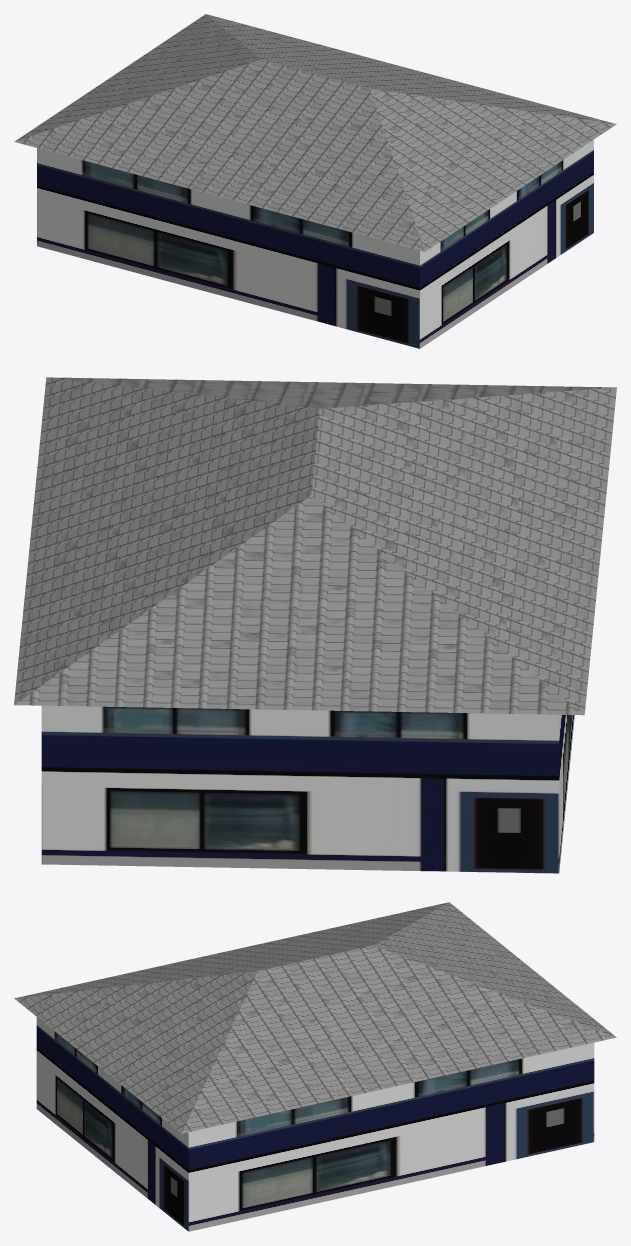
3 renders of one model, top to bottom at view 1: azimuth 30°, elevation 25°; view 2: azimuth 150°, elevation 25°; view 3: azimuth 270°, elevation 25°, orthographic. The views are drawn at different scales.
Parts seen in each view (by area): view 1: CityEngineMaterial_4_m, CityEngineMaterial_2_m; view 2: CityEngineMaterial_4_m, CityEngineMaterial_2_m; view 3: CityEngineMaterial_4_m, CityEngineMaterial_2_m.
Part boxes in pixels (x1,y1,x2,y2): CityEngineMaterial_4_m: (14,14,616,251); CityEngineMaterial_2_m: (37,140,593,348); CityEngineMaterial_4_m: (14,377,616,715); CityEngineMaterial_2_m: (41,705,574,873); CityEngineMaterial_4_m: (14,902,616,1133); CityEngineMaterial_2_m: (36,1017,594,1231).
Bounding box in the file's own units: 30.65 × 10.32 × 33.72.
